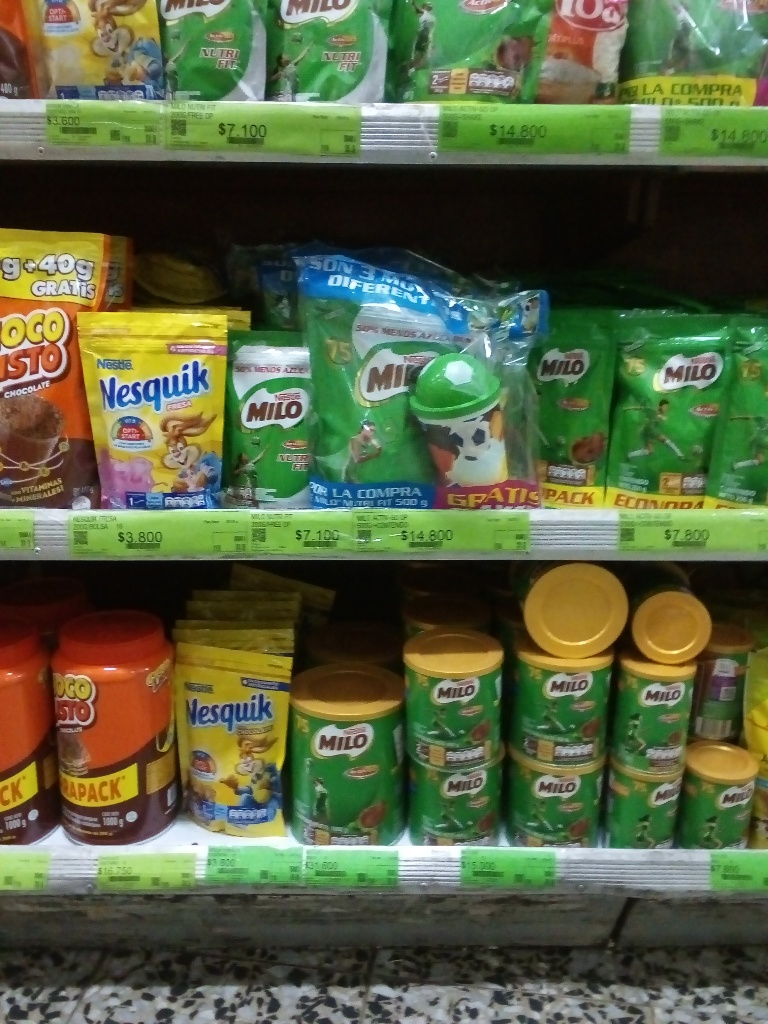COL0170103TRR00100: (49, 612, 184, 850)
COL0170203DYP25000: (613, 309, 733, 511)
COL0170203DYP50000: (389, 1, 532, 101)
COL0170203LAT20000: (681, 742, 752, 852)
COL0170203LAT40000: (506, 749, 609, 844)
COL0170205DYP20000: (219, 313, 329, 511)
COL0170205DYP50000: (304, 296, 437, 483)
COL0170303DYP20000: (171, 629, 289, 835)
COL0170305DYP20000: (73, 301, 231, 509)
COL0170306DYP20000: (21, 1, 161, 101)
